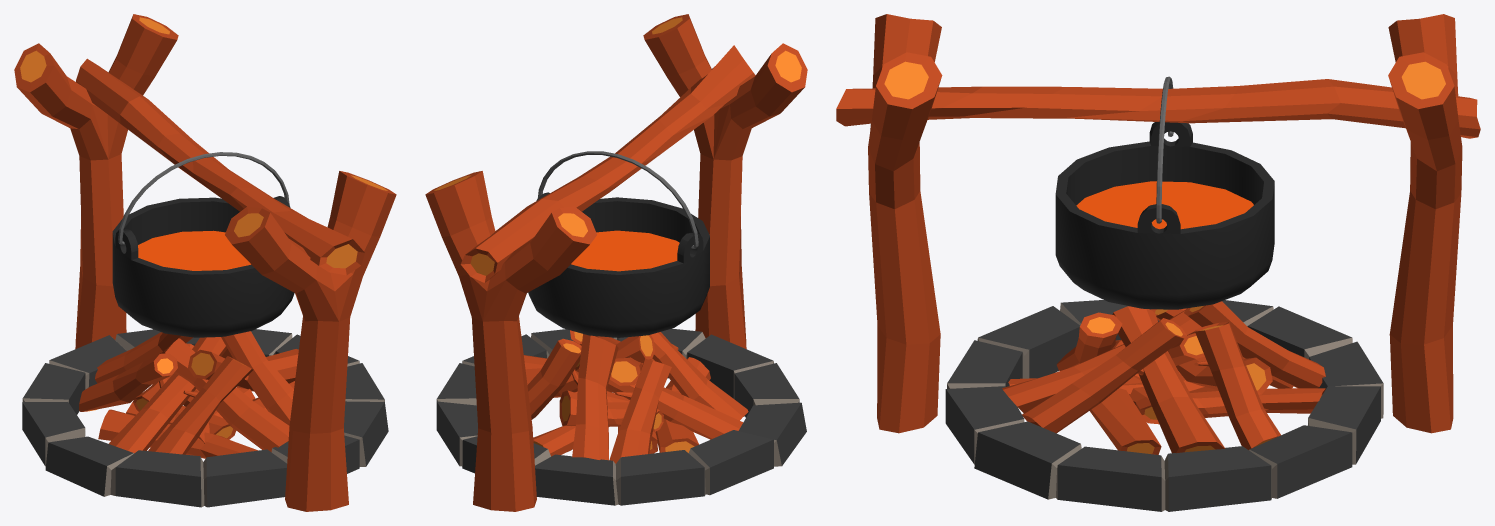
The model's file is item16.glb.
3 views of the same model, side by side, from view 1: azimuth 30°, elevation 25°; view 2: azimuth 150°, elevation 25°; view 3: azimuth 270°, elevation 25° (orthographic). The views are drawn at different scales.
Parts seen in each view (by area): view 1: Item16; view 2: Item16; view 3: Item16.
Boxes of the visible parts, <box> form: Item16: <box>14,14,396,511</box>; Item16: <box>425,14,807,511</box>; Item16: <box>836,14,1480,511</box>.
Size of what is drawn, in the model's own units: 0.6158 by 0.5972 by 0.8978.
1 material, 1 textured.
